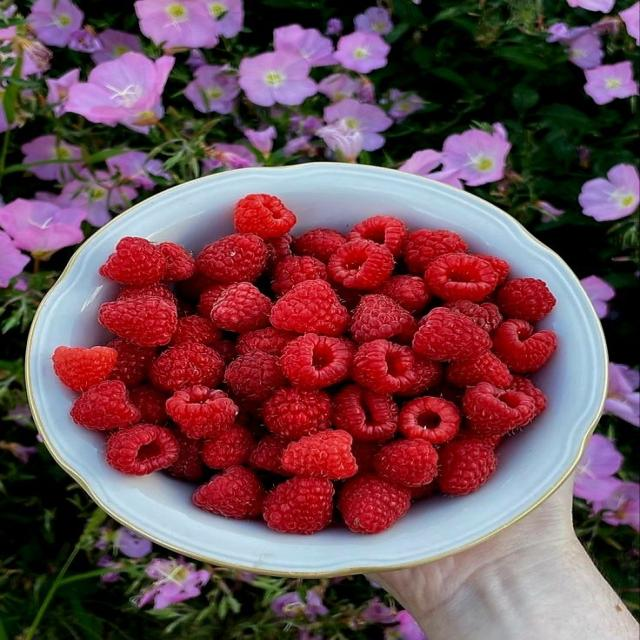raspberry: (271, 280, 349, 336), (338, 473, 410, 533), (280, 333, 355, 389), (413, 308, 491, 360), (263, 478, 333, 534), (167, 385, 238, 439), (99, 296, 177, 345), (462, 383, 535, 435), (282, 430, 358, 479), (106, 424, 179, 475), (193, 466, 264, 518), (334, 385, 398, 441), (150, 343, 223, 391), (263, 388, 331, 439), (197, 234, 266, 284), (70, 381, 140, 430), (352, 340, 416, 393), (493, 320, 557, 373), (425, 254, 497, 301), (327, 240, 394, 290), (438, 439, 497, 494), (99, 237, 166, 285), (350, 295, 417, 343), (374, 439, 438, 487), (211, 282, 272, 332), (225, 352, 286, 402), (399, 396, 460, 444), (53, 346, 118, 391), (234, 194, 296, 239), (404, 230, 466, 275), (496, 278, 555, 322), (347, 216, 407, 257), (446, 352, 512, 388), (107, 338, 156, 386), (202, 425, 254, 468), (272, 256, 327, 296), (377, 275, 430, 312), (397, 355, 443, 397), (445, 300, 502, 332), (293, 229, 346, 263), (236, 327, 298, 356), (167, 431, 203, 480), (249, 435, 289, 475), (170, 315, 221, 346), (129, 385, 167, 424), (158, 242, 195, 282), (510, 376, 546, 417), (176, 268, 215, 301), (117, 283, 176, 303), (475, 254, 510, 285), (265, 233, 292, 272), (197, 285, 227, 318), (456, 429, 504, 448), (352, 441, 381, 472), (334, 284, 366, 310), (433, 382, 465, 406), (211, 340, 236, 366), (408, 480, 437, 502), (176, 299, 196, 318)
